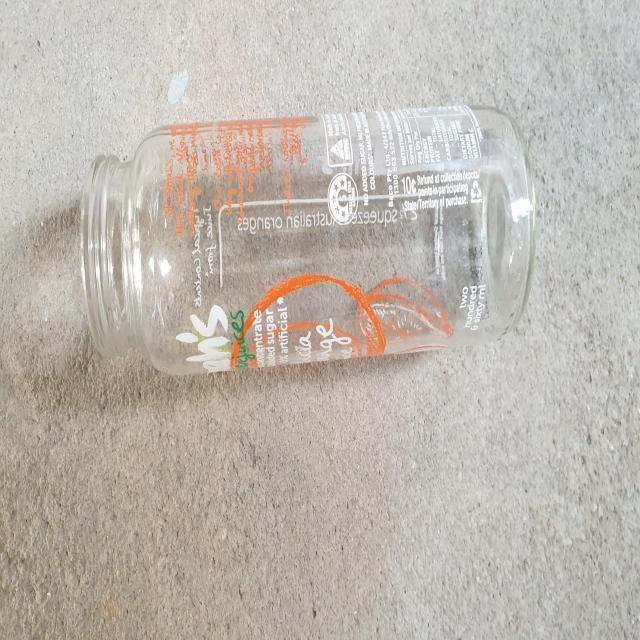glass: (80, 104, 536, 373)
